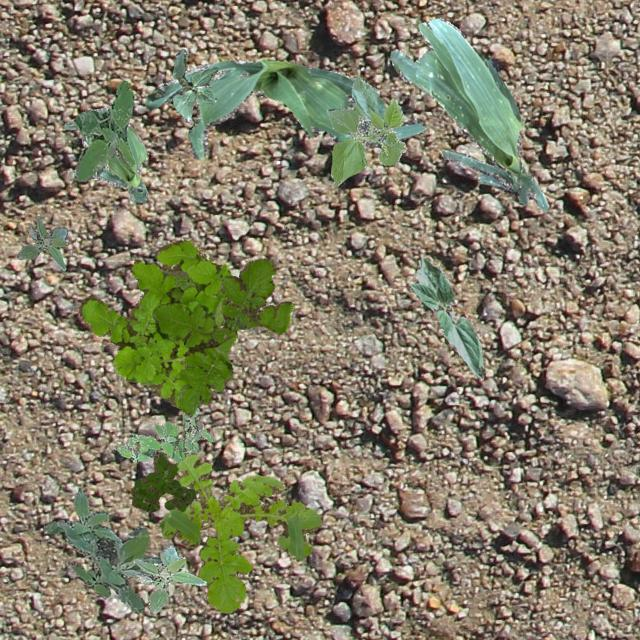crop: (388, 17, 548, 210), (144, 58, 424, 158), (408, 256, 484, 376), (326, 74, 406, 185), (64, 105, 146, 202), (172, 48, 216, 122)
weed: (158, 452, 320, 612), (78, 238, 230, 406), (152, 258, 292, 416), (42, 488, 160, 610), (72, 80, 134, 180), (114, 406, 214, 462), (133, 544, 205, 614), (130, 451, 194, 512), (15, 216, 66, 270)
